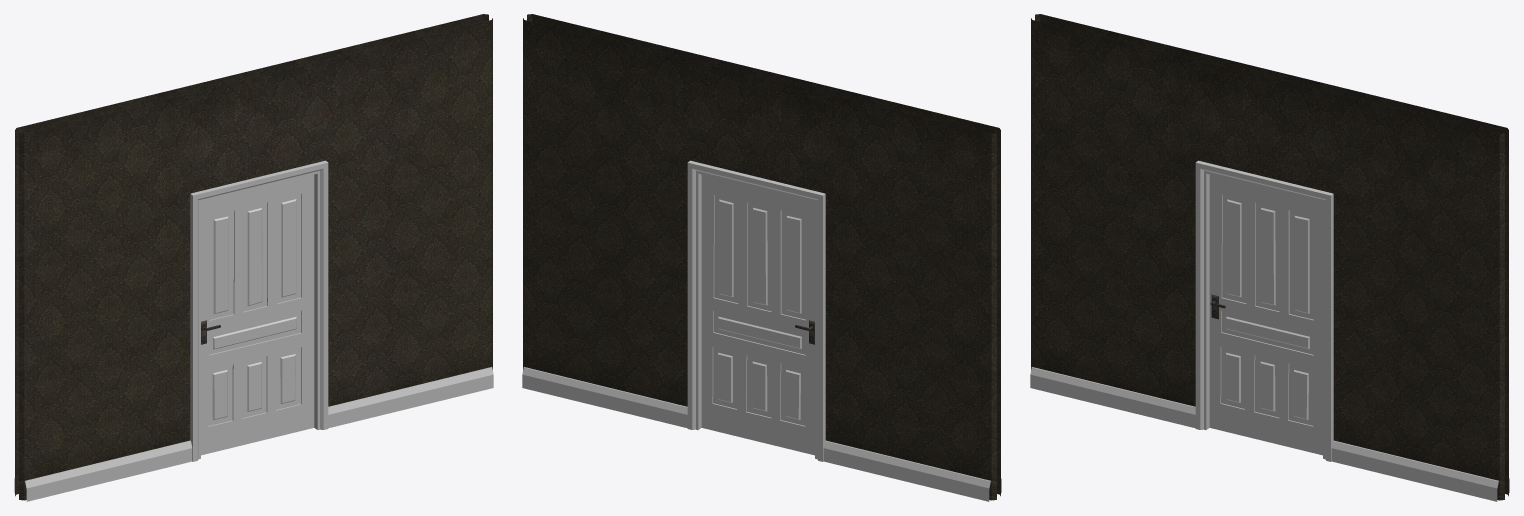
The model's file is doorway_2_1.fbx.
The picture shows the model from 3 angles, left to right: view 1: azimuth 30°, elevation 25°; view 2: azimuth 150°, elevation 25°; view 3: azimuth 330°, elevation 25°; orthographic projection.
Parts seen in each view (by area): view 1: doorway_2_1, door_1; view 2: doorway_2_1, door_1; view 3: doorway_2_1, door_1.
Part boxes in pixels (x1=…): doorway_2_1: x1=14, y1=14, x2=493, y2=501; door_1: x1=201, y1=174, x2=314, y2=455; doorway_2_1: x1=522, y1=14, x2=1001, y2=501; door_1: x1=701, y1=174, x2=814, y2=455; doorway_2_1: x1=1030, y1=14, x2=1509, y2=501; door_1: x1=1209, y1=174, x2=1322, y2=455.
Bounding box in the file's own units: 4.06 × 0.2 × 3.
